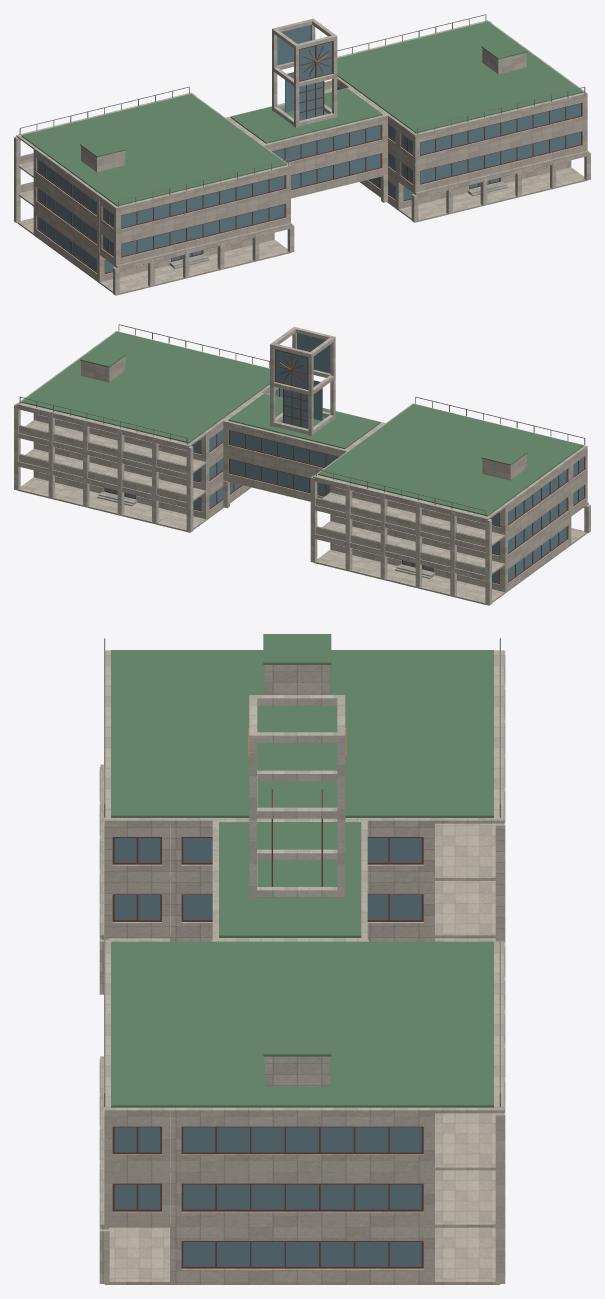
3 views of the same model, one above another, from view 1: azimuth 30°, elevation 25°; view 2: azimuth 150°, elevation 25°; view 3: azimuth 270°, elevation 25° (orthographic). The views are drawn at different scales.
Visible parts, largest first — view 1: main__stone, main__roof, main__glass, main__frame, main__column, main__tower, main__metal; view 2: main__stone, main__roof, main__glass, main__column, main__frame, main__tower, main__metal; view 3: main__roof, main__stone, main__glass, main__tower, main__frame, main__column, main__metal.
Boxes of the visible parts, x1,y1,x2,y2 form: main__stone: (16,20,588,295); main__roof: (21,21,583,206); main__glass: (38,25,580,272); main__frame: (37,41,582,274); main__column: (14,21,590,295); main__tower: (272,18,337,127); main__metal: (19,14,585,206); main__stone: (16,331,588,605); main__roof: (21,331,583,516); main__glass: (105,333,583,582); main__column: (14,403,590,605); main__frame: (39,349,584,584); main__tower: (270,326,335,435); main__metal: (19,324,585,567); main__roof: (111,634,493,1107); main__stone: (100,650,504,1284); main__glass: (114,838,421,1266); main__tower: (249,695,345,898); main__frame: (112,789,423,1268); main__column: (99,651,505,1283); main__metal: (104,638,500,1106).
Size of the model in its own units: 67.84 by 23.2 by 25.04.
Materials: 12 (7 with a texture image).
